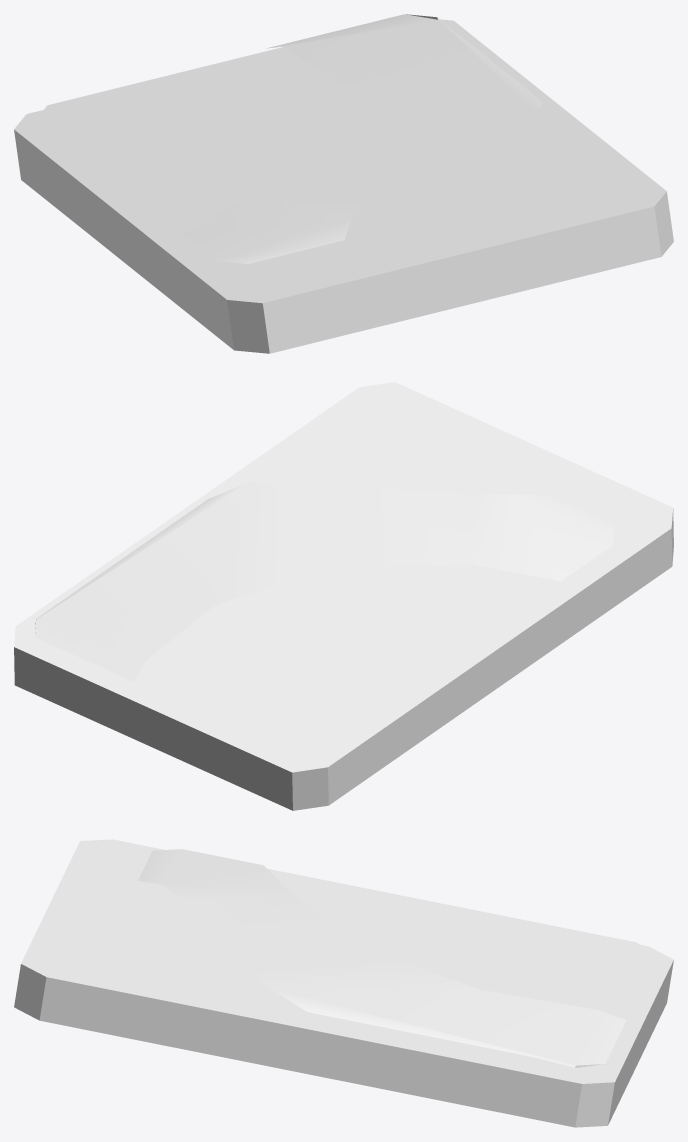
The model's file is penguinCellPhone@penguinCellPhone.fbx.
3 views of the same model, one above another, from view 1: azimuth 30°, elevation 25°; view 2: azimuth 150°, elevation 25°; view 3: azimuth 270°, elevation 25° (orthographic). The views are drawn at different scales.
Visible parts, largest first — view 1: penguinCellPhone:penguinCellPhone; view 2: penguinCellPhone:penguinCellPhone; view 3: penguinCellPhone:penguinCellPhone.
Part boxes in pixels (x1,y1,x2,y2): penguinCellPhone:penguinCellPhone: (14,14,673,353); penguinCellPhone:penguinCellPhone: (14,382,673,810); penguinCellPhone:penguinCellPhone: (14,839,673,1127).
Size of the model in its own units: 12.31 by 3.96 by 16.16.
